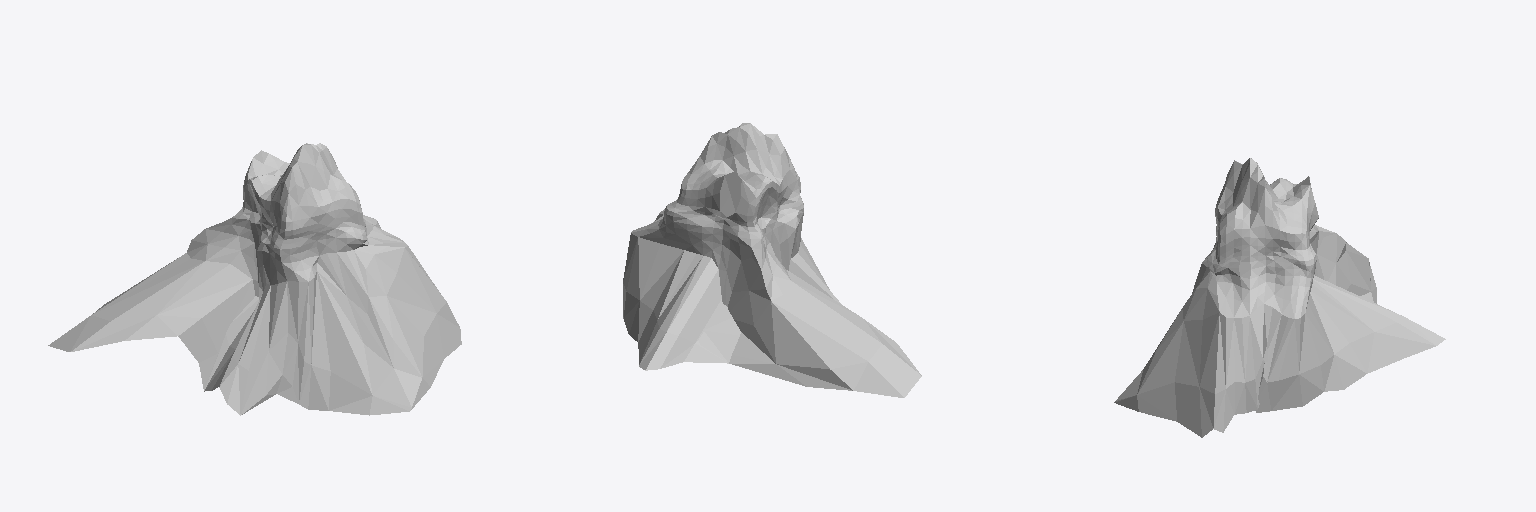
The model's file is КАМЫНИ.obj.
3 views of the same model, side by side, from view 1: azimuth 30°, elevation 25°; view 2: azimuth 150°, elevation 25°; view 3: azimuth 270°, elevation 25° (orthographic).
Visible parts, largest first — view 1: Cube.002, Cube; view 2: Cube.002, Cube; view 3: Cube.002, Cube.
Boxes of the visible parts, x1=… form: Cube.002: x1=48, y1=212, x2=461, y2=415; Cube: x1=187, y1=143, x2=407, y2=299; Cube.002: x1=623, y1=172, x2=921, y2=397; Cube: x1=631, y1=123, x2=803, y2=306; Cube.002: x1=1114, y1=177, x2=1445, y2=437; Cube: x1=1202, y1=158, x2=1336, y2=318.
Bounding box in the file's own units: 8.74 × 5.53 × 7.29.